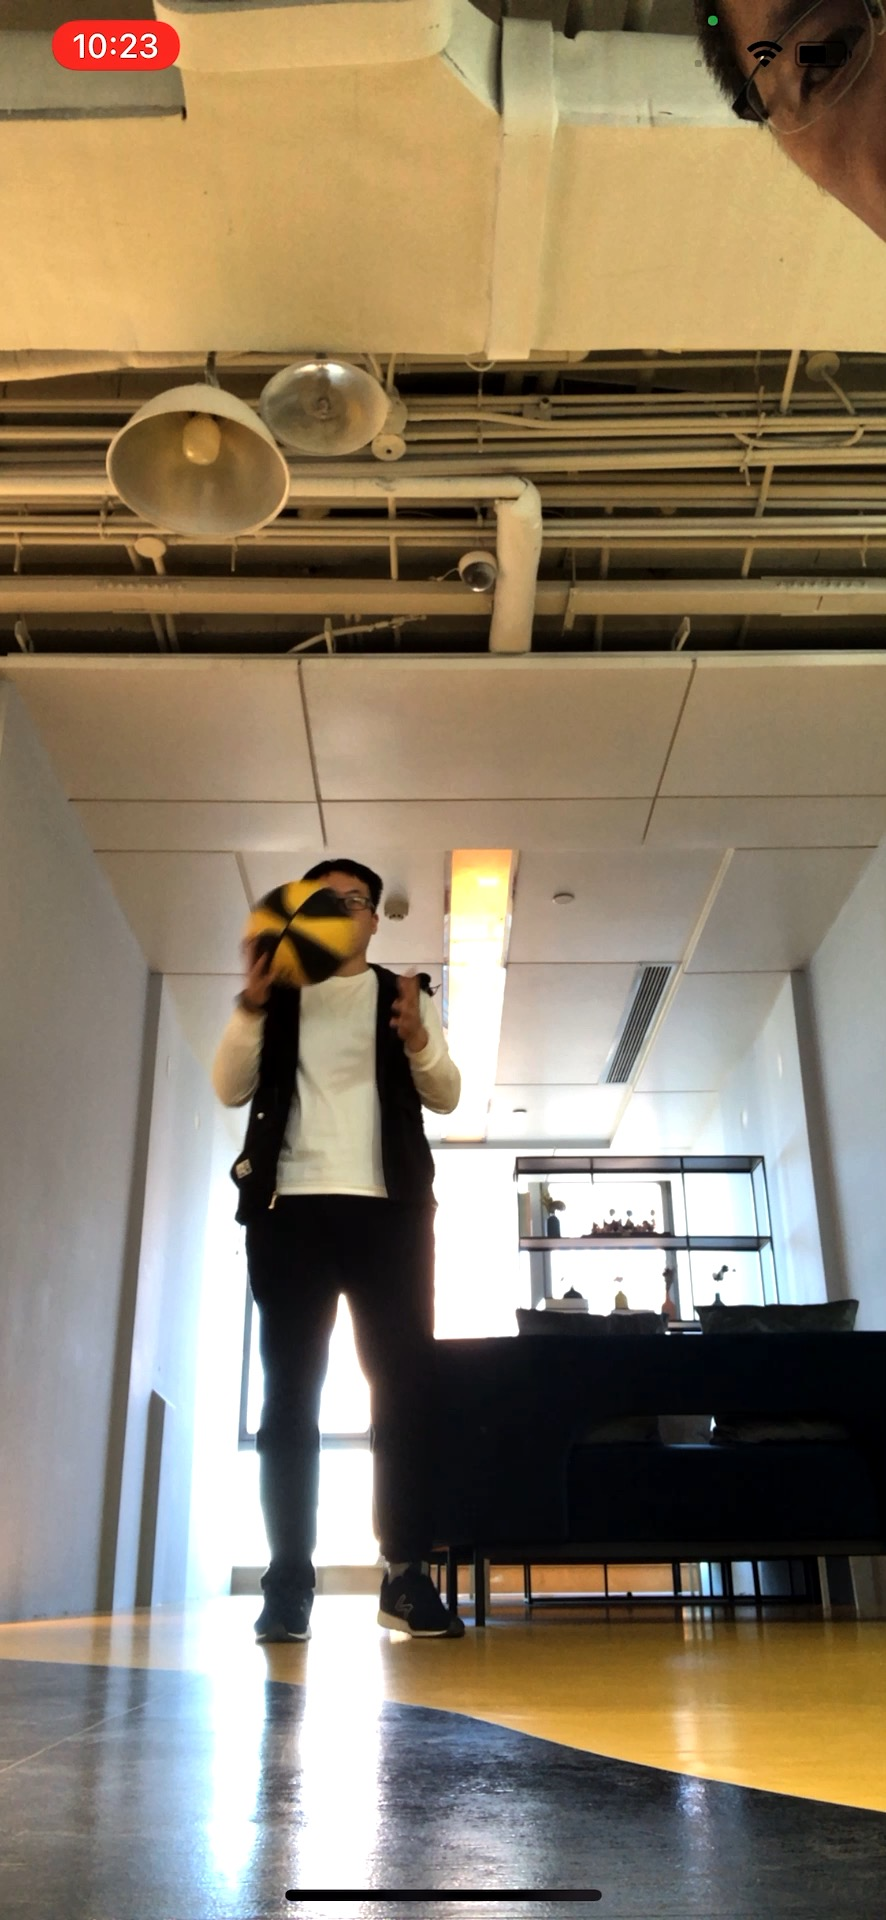ball: (244, 882, 348, 984)
